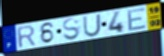4: (107, 10, 126, 34)
6: (39, 22, 55, 45)
E: (127, 6, 148, 32)
R: (15, 24, 37, 50)
S: (61, 17, 82, 41)
U: (83, 13, 102, 38)
